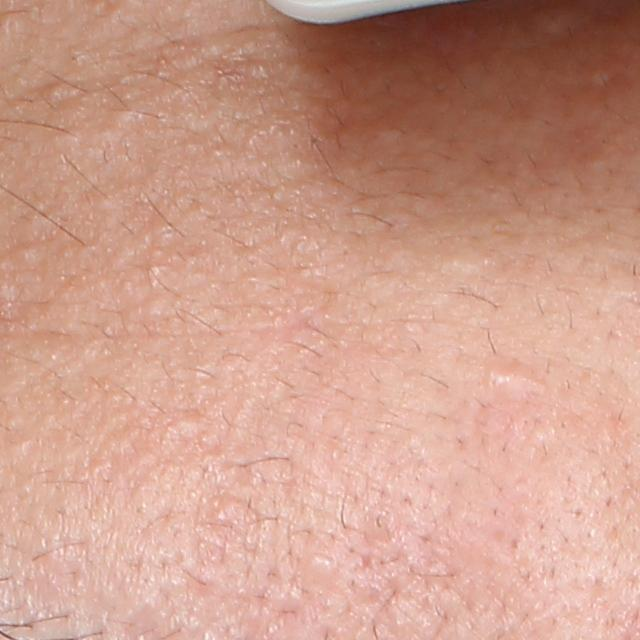comedo: (32, 79, 82, 103), (487, 366, 528, 395), (167, 410, 201, 443), (9, 240, 45, 270)
